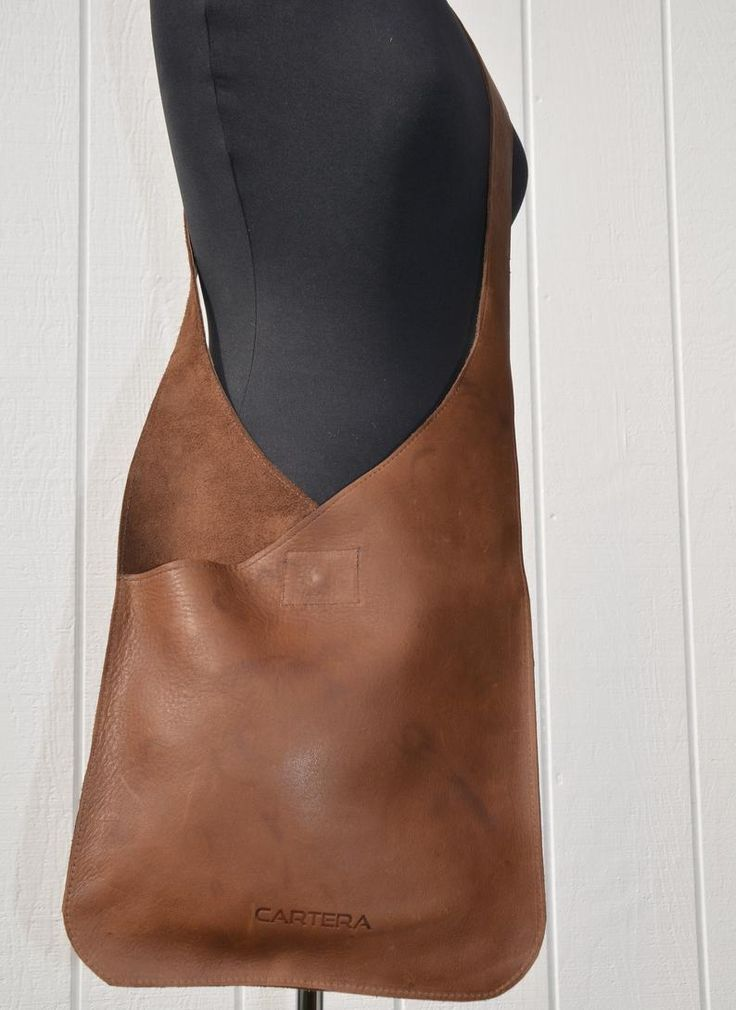cuero: (55, 571, 550, 1004)
